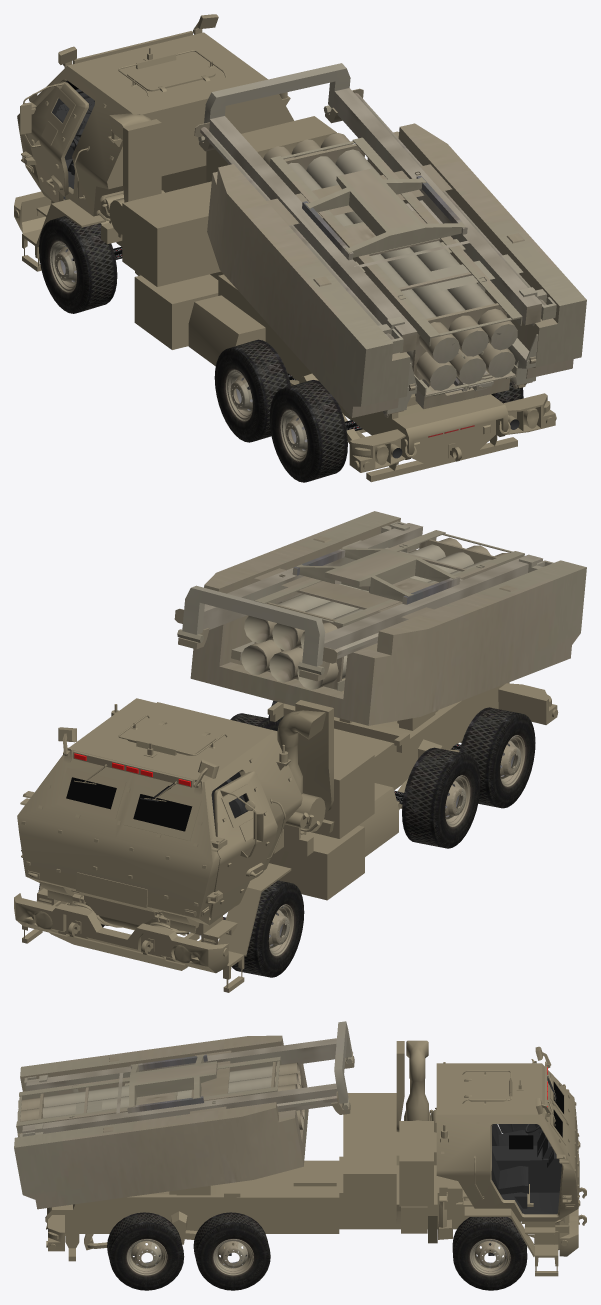
File: l_himars.glb
3 renders of one model, top to bottom at view 1: azimuth 30°, elevation 25°; view 2: azimuth 150°, elevation 25°; view 3: azimuth 270°, elevation 25°, orthographic. The views are drawn at different scales.
Parts seen in each view (by area): view 1: pod|material_3, body|Material_147, body|Default, body|material_3, body|Material_148; view 2: body|Material_147, pod|material_3, body|Default, body|material_3, body|03_-_Default; view 3: body|Material_147, pod|material_3, body|Default, body|Material_148, body|material_3, body|03_-_Default.
Boxes of the visible parts, x1,y1,x2,y2 form: pod|material_3: (194,63,586,417); body|Material_147: (14,14,556,482); body|Default: (39,216,523,482); body|material_3: (50,241,307,461); body|Material_148: (52,80,519,458); body|Material_147: (14,678,558,992); pod|material_3: (174,511,586,725); body|Default: (38,700,535,977); body|material_3: (268,735,525,956); body|03_-_Default: (66,777,191,831); body|Material_147: (45,1040,586,1276); pod|material_3: (14,1021,354,1209); body|Default: (107,1212,527,1290); body|Material_148: (491,1076,562,1214); body|material_3: (126,1239,510,1275); body|03_-_Default: (509,1081,563,1149).
Size of the model in its own units: 2.79 by 3.09 by 7.6.
Materials: 10 (4 with a texture image).
